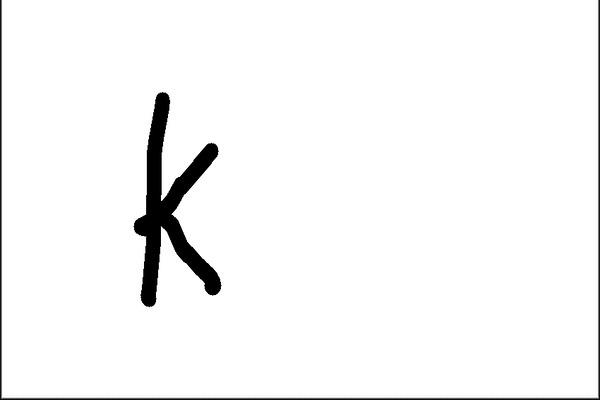K: (128, 85, 230, 312)
